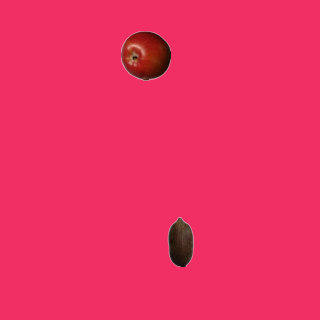Apple Braeburn: (120, 30, 170, 80)
Nut Pecan: (155, 216, 205, 266)
